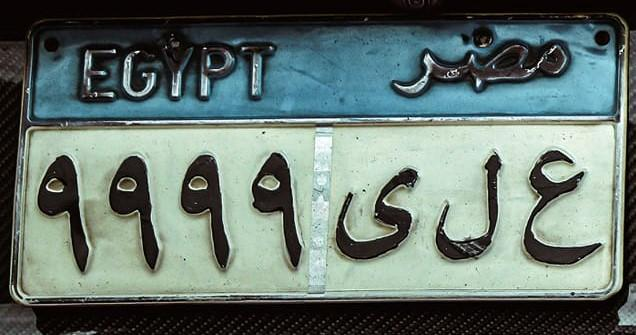9: (32, 147, 97, 285), (104, 148, 168, 283), (248, 146, 310, 277), (177, 147, 236, 277)
ain: (514, 140, 607, 275)
laam: (431, 140, 507, 267)
yaa: (334, 151, 423, 270)
